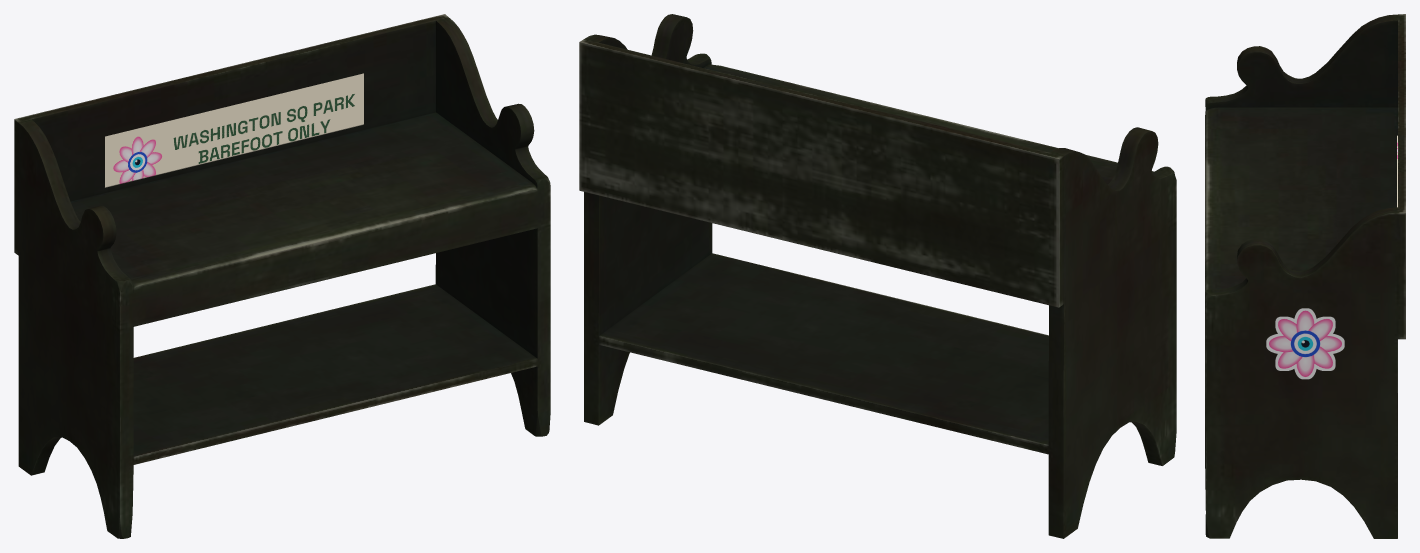
File: nyb_barefoot_bench.glb
The picture shows the model from 3 angles, left to right: view 1: azimuth 30°, elevation 25°; view 2: azimuth 150°, elevation 25°; view 3: azimuth 270°, elevation 25°; orthographic projection. The views are drawn at different scales.
Parts seen in each view (by area): view 1: painted_wooden_bench, stk_lbl_4e4c83dc6d.png; view 2: painted_wooden_bench; view 3: painted_wooden_bench, stk_eyeflower_die.png.
Part boxes in pixels (x1,y1,x2,y2): painted_wooden_bench: (14,14,550,538); stk_lbl_4e4c83dc6d.png: (105,73,363,187); painted_wooden_bench: (579,14,1176,538); painted_wooden_bench: (1205,14,1405,538); stk_eyeflower_die.png: (1266,308,1344,379).
Size of the model in its own units: 1.17 by 0.8893 by 0.4965.
Materials: 3 (3 with a texture image).
